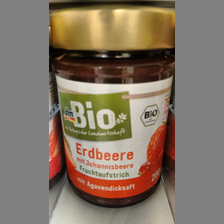jam: (50, 5, 175, 208)
